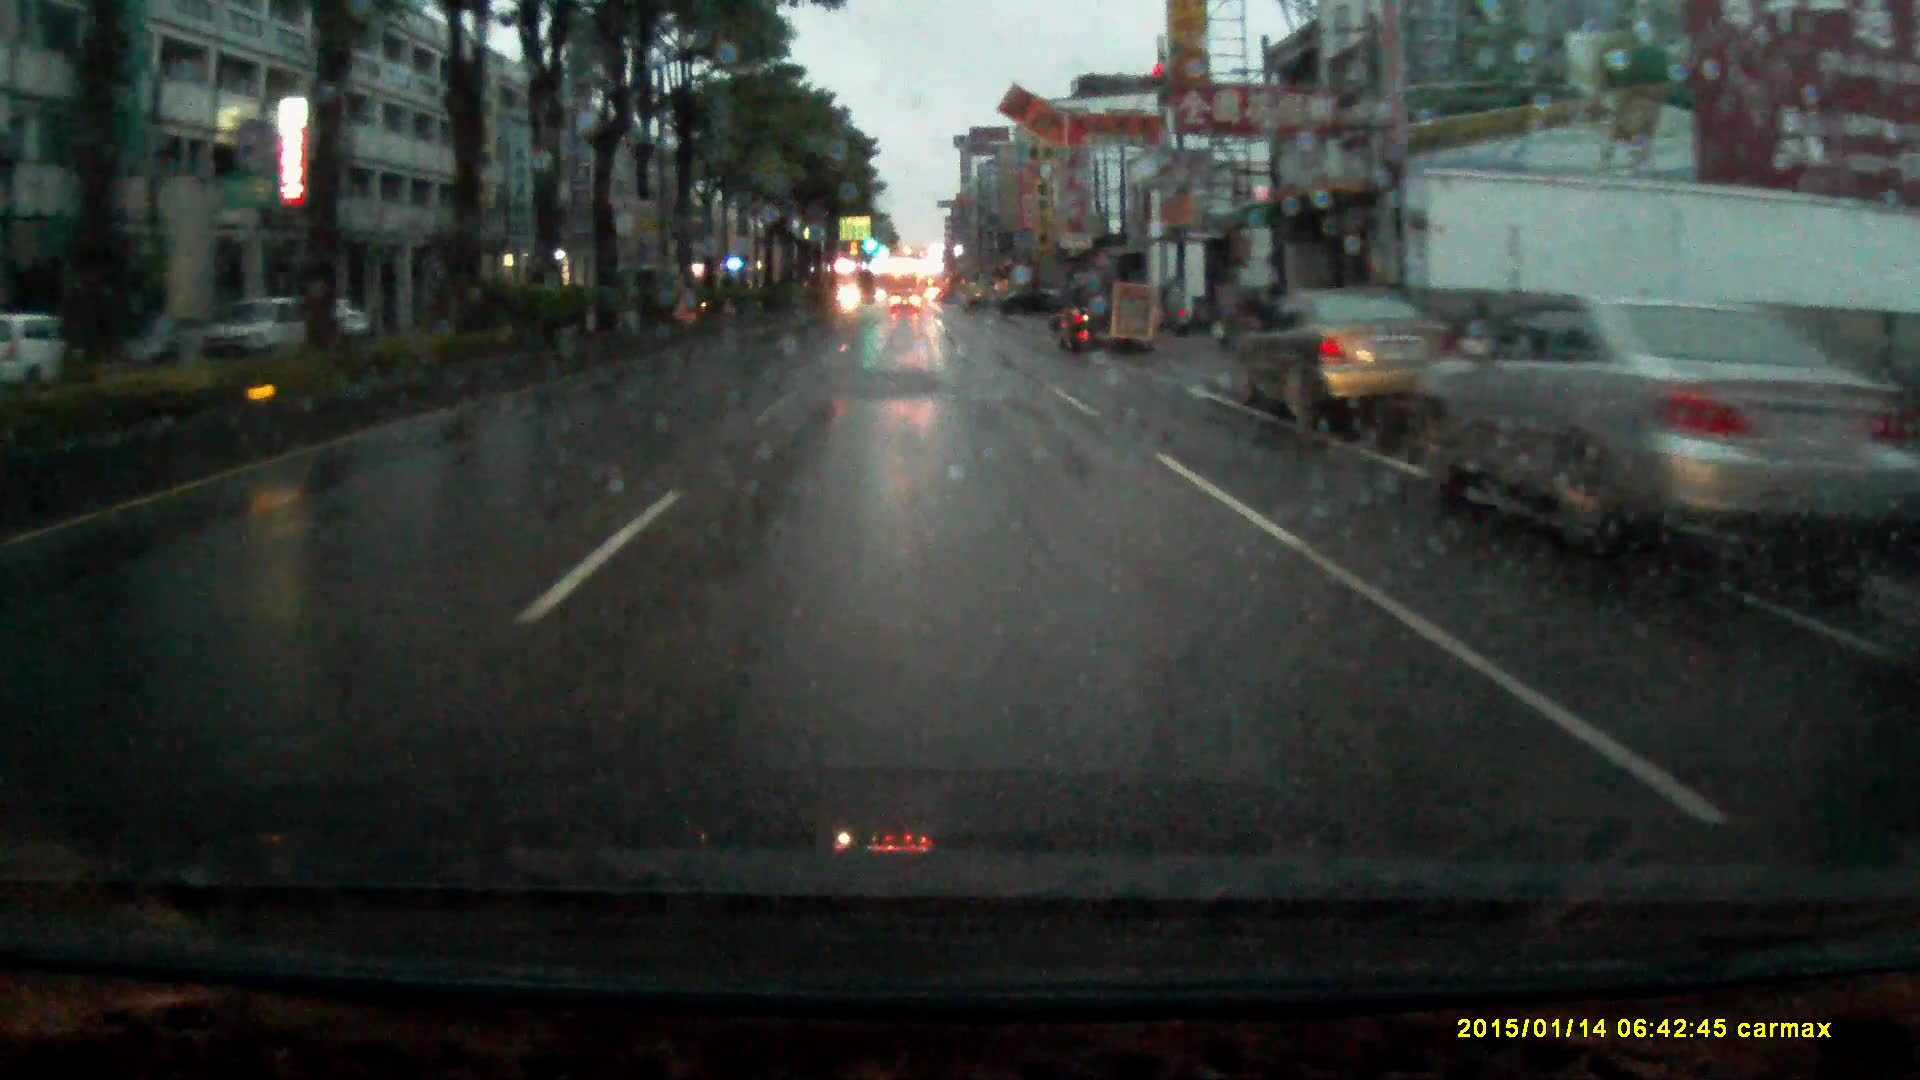vehicle: (1410, 295, 1803, 556), (1236, 282, 1458, 414), (195, 297, 339, 364), (1060, 273, 1149, 352), (890, 284, 920, 313)
